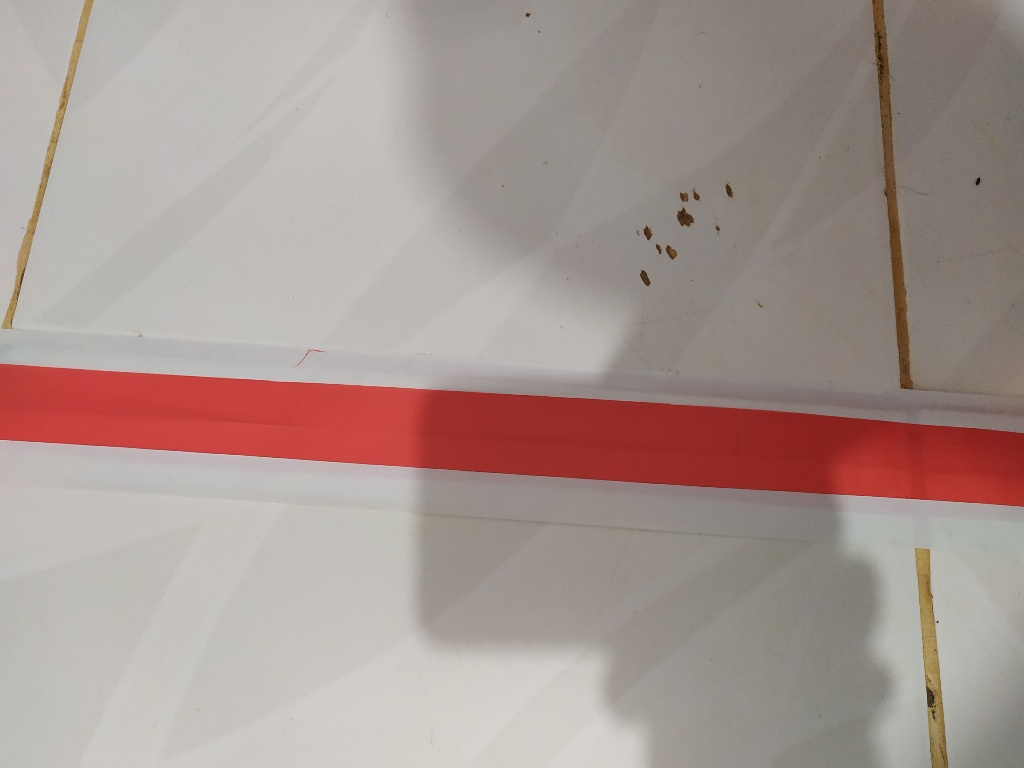reta: (2, 327, 1024, 555)
